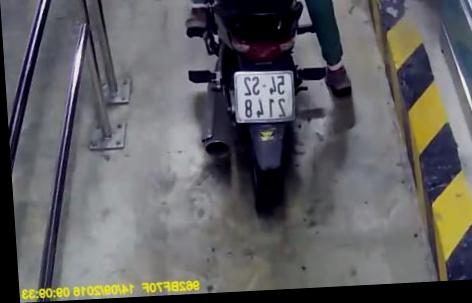License_Plate: (224, 67, 300, 131)
